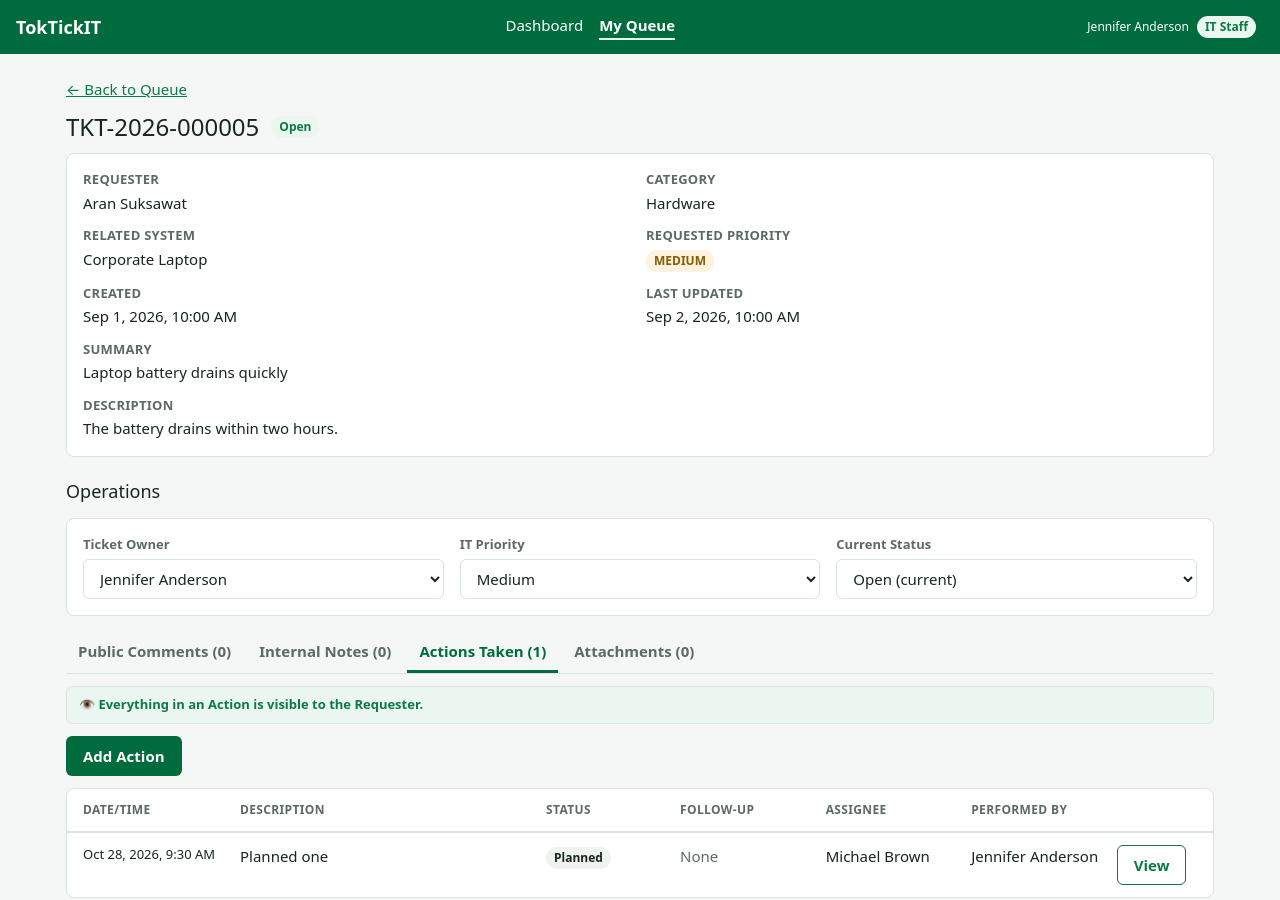
Test: Actions Taken on the IT Staff Ticket Detail › UI-14: Start sends one transition request, and the panel then shows the new status
This screenshot has width=1280, height=900.
Click the button with aria-label "view action: planned one" at (1152, 865), box [1117,845,1186,885]
(page scrolled)
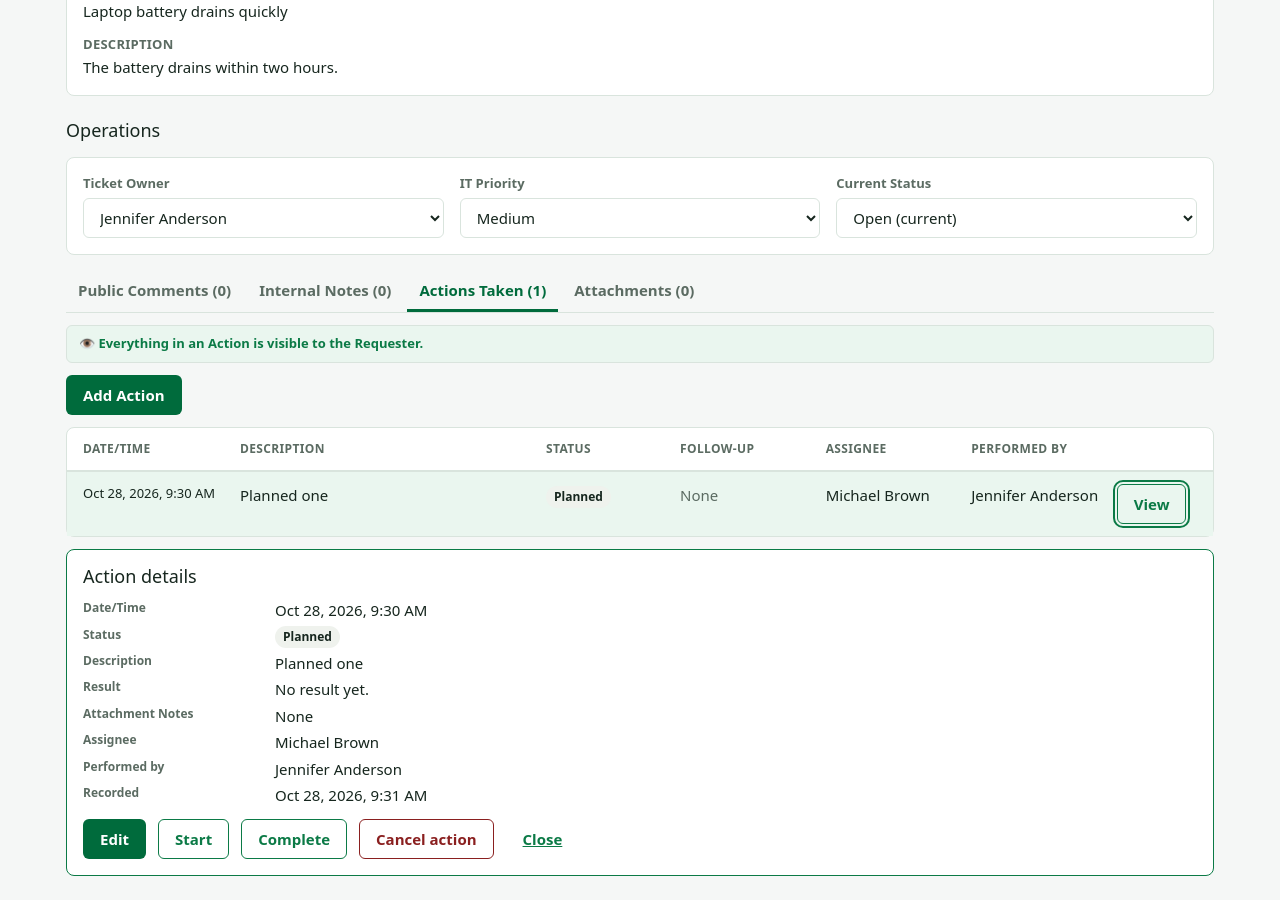
Click the button "Start" at (194, 839), box [158,819,229,859]
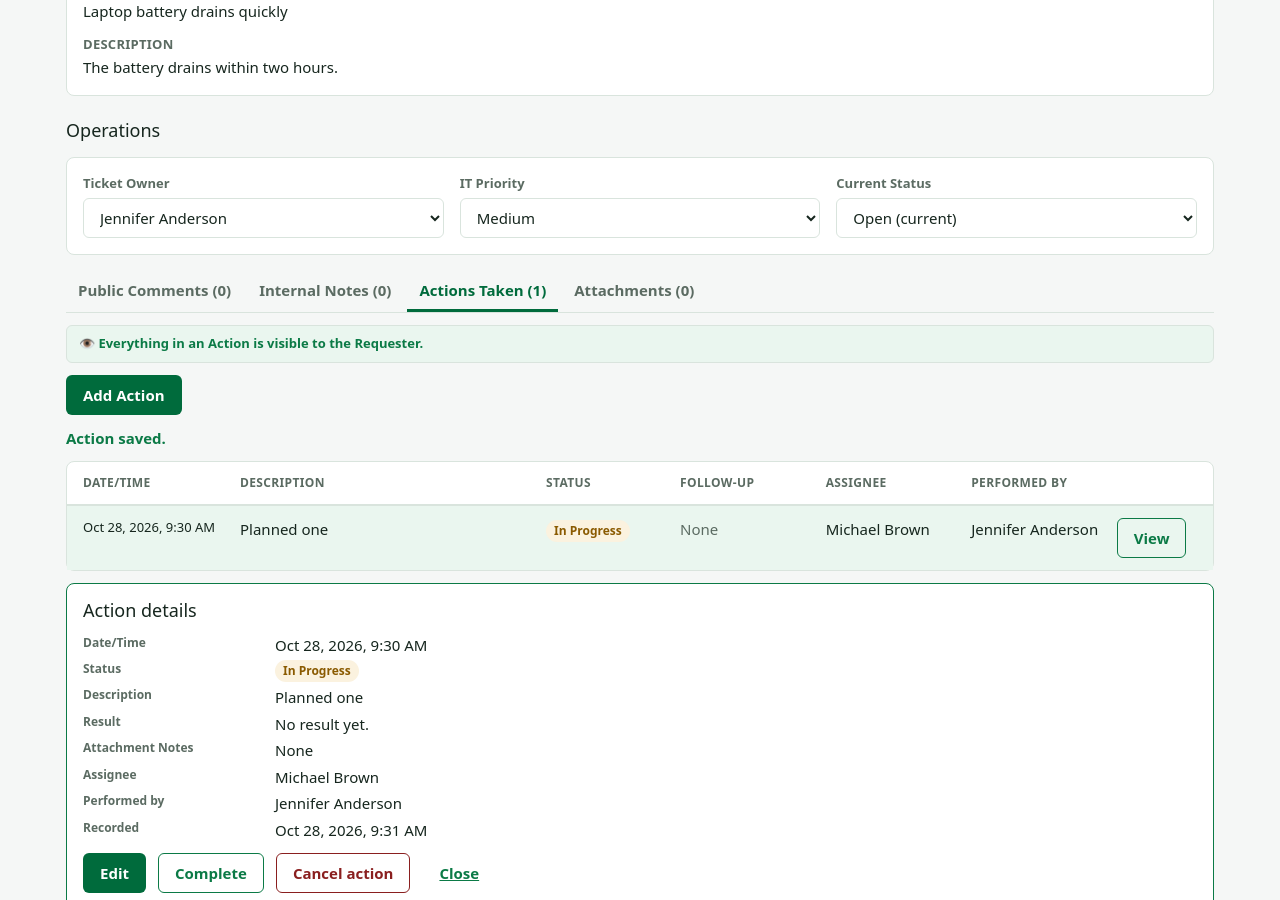
Expected: the button "Complete" is shown, [158,854,264,894]
Expected: the button "Start" is gone
